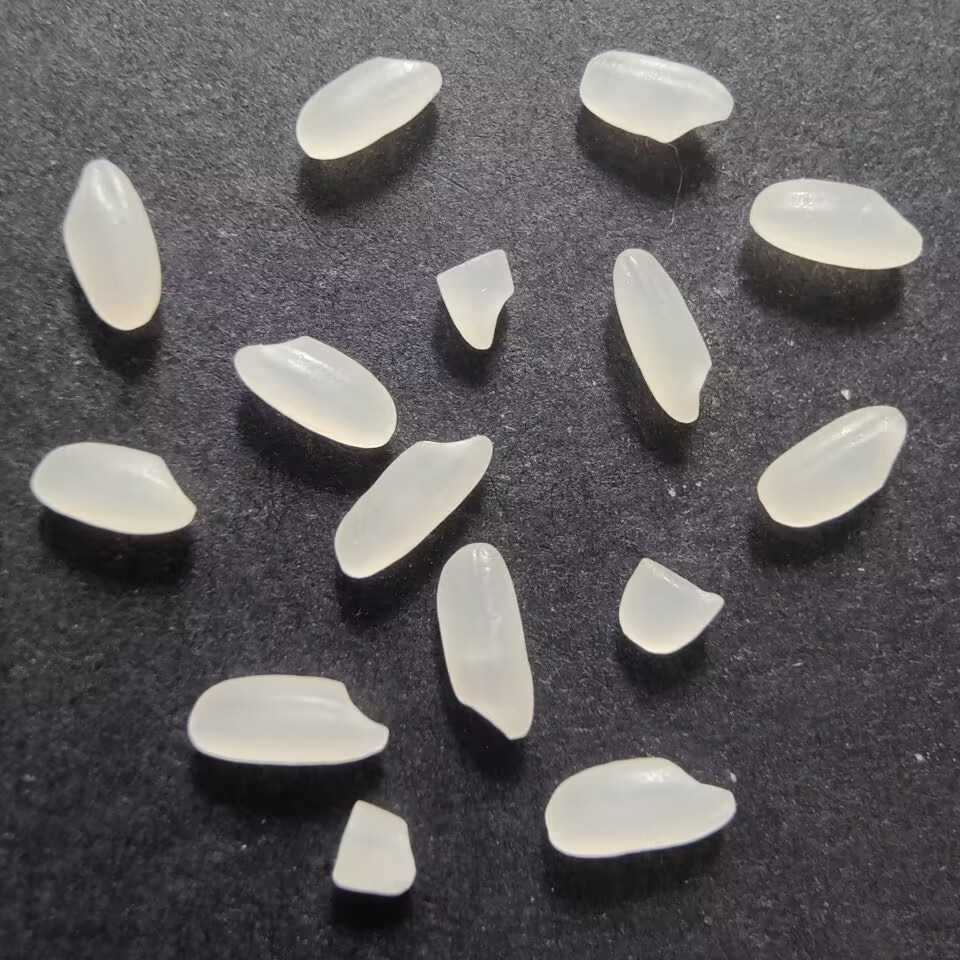broken: (611, 550, 726, 660), (322, 796, 426, 903), (430, 243, 517, 358)
rice: (329, 430, 499, 586), (431, 539, 545, 745), (540, 750, 743, 865), (747, 397, 912, 533), (174, 669, 394, 771), (604, 242, 718, 429), (223, 333, 401, 452), (57, 150, 166, 340), (289, 50, 446, 170), (744, 174, 931, 274), (27, 439, 200, 539), (568, 46, 740, 144)
